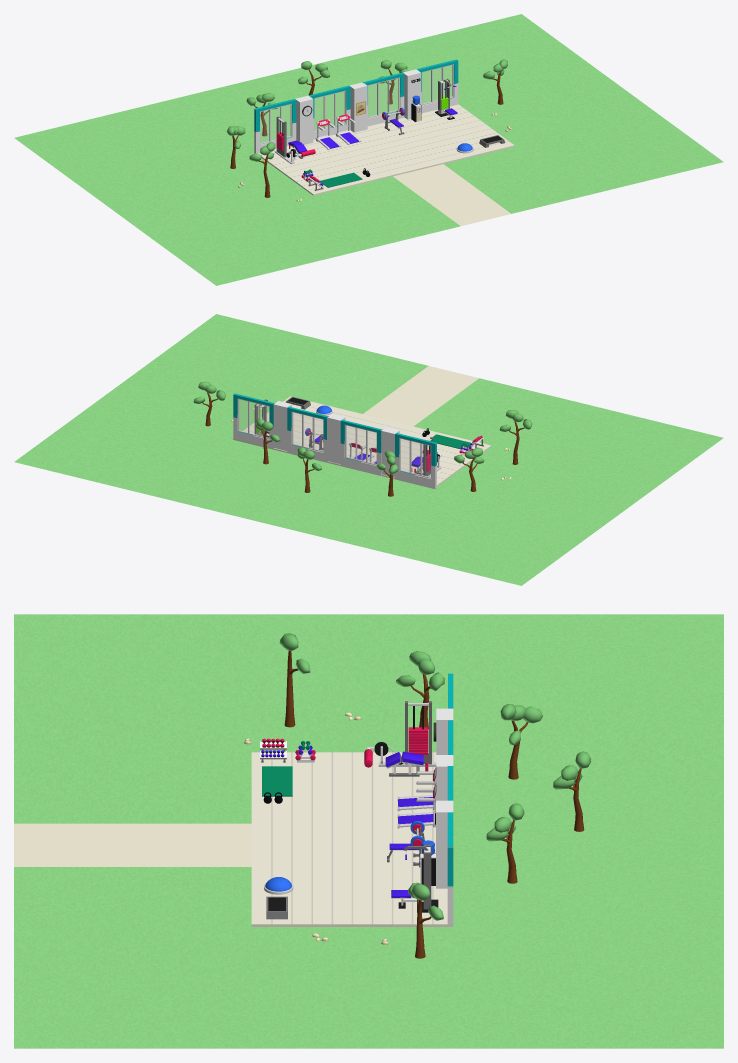
The model's file is gym(no_wall).FBX.
3 renders of one model, top to bottom at view 1: azimuth 30°, elevation 25°; view 2: azimuth 150°, elevation 25°; view 3: azimuth 270°, elevation 25°, orthographic. The views are drawn at different scales.
Parts seen in each view (by area): view 1: Plane017, Box341, Plane006, Box270, Box298, Box263, Box574, Box296, Plane005, Box299, Box575, Plane004 (+1 smaller); view 2: Plane017, Box341, Box263, Box296, Box575, Plane005, Plane006, Plane004, Box299, Box574, Box298, Plane015 (+1 smaller); view 3: Plane017, Box341, Box574, Box255, Box575.
Part boxes in pixels (<box>): Plane017: <box>14,14,723,285</box>; Box341: <box>257,104,514,195</box>; Plane006: <box>369,79,397,116</box>; Box270: <box>295,95,313,144</box>; Box298: <box>349,82,367,132</box>; Box263: <box>254,99,296,153</box>; Box574: <box>403,69,421,119</box>; Box296: <box>309,85,350,139</box>; Plane005: <box>315,92,344,129</box>; Box299: <box>362,72,404,126</box>; Box575: <box>416,59,458,113</box>; Plane004: <box>261,105,289,142</box>; Plane017: <box>14,314,723,585</box>; Box341: <box>233,396,491,486</box>; Box263: <box>395,433,436,489</box>; Box296: <box>340,419,382,475</box>; Box575: <box>233,393,274,448</box>; Plane005: <box>346,426,375,463</box>; Plane006: <box>293,413,322,450</box>; Plane004: <box>401,439,430,476</box>; Box299: <box>287,406,328,462</box>; Box574: <box>273,401,291,450</box>; Box298: <box>327,414,345,464</box>; Plane015: <box>239,400,268,437</box>; Plane017: <box>14,614,723,1048</box>; Box341: <box>251,752,453,926</box>; Box574: <box>436,800,453,888</box>; Box255: <box>262,766,292,796</box>; Box575: <box>447,812,453,924</box>.
Bounding box in the file's own units: 48.19 × 4.82 × 33.27.
19 materials, 6 textured.
